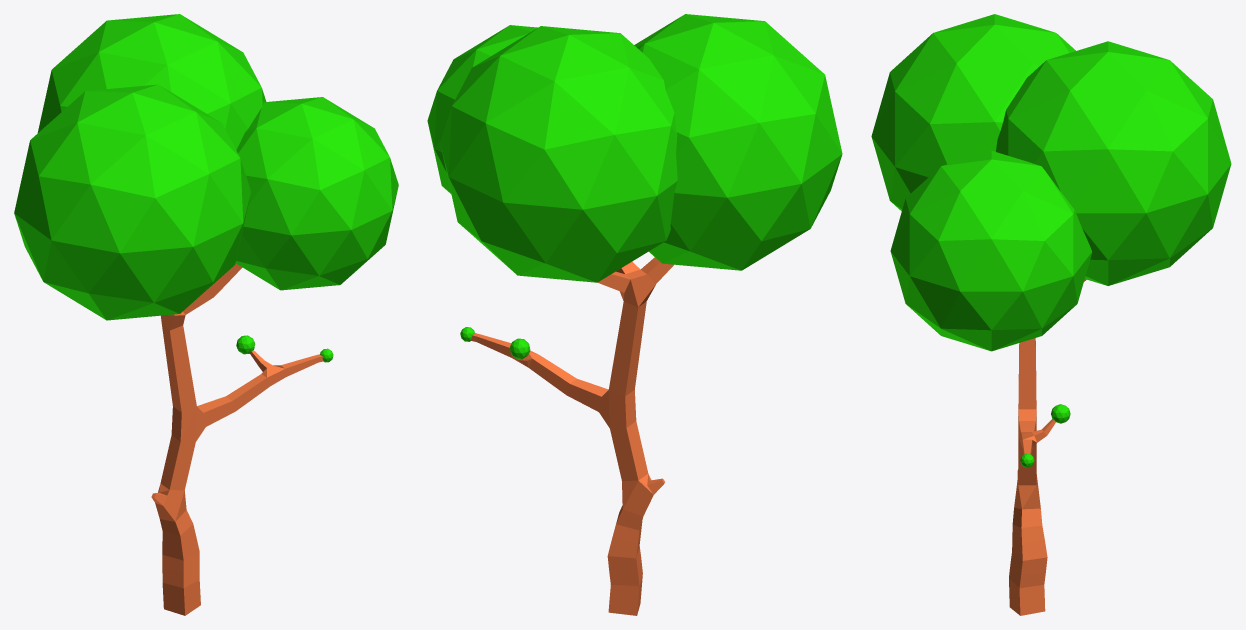
File: Nattergal_Tree.fbx
The picture shows the model from 3 angles, left to right: view 1: azimuth 30°, elevation 25°; view 2: azimuth 150°, elevation 25°; view 3: azimuth 270°, elevation 25°; orthographic projection. The views are drawn at different scales.
Visible parts, largest first — view 1: Icosphere.001, Icosphere, Icosphere.002, Cube; view 2: Icosphere.002, Icosphere.001, Cube, Icosphere; view 3: Icosphere.002, Icosphere, Icosphere.001, Cube.
Boxes of the visible parts, x1=… form: Icosphere.001: x1=14, y1=84, x2=250, y2=320; Icosphere: x1=235, y1=97, x2=398, y2=290; Icosphere.002: x1=37, y1=14, x2=266, y2=149; Cube: x1=151, y1=263, x2=323, y2=615; Icosphere.002: x1=440, y1=26, x2=677, y2=282; Icosphere.001: x1=634, y1=14, x2=842, y2=270; Cube: x1=471, y1=257, x2=673, y2=615; Icosphere: x1=427, y1=25, x2=537, y2=194; Icosphere.002: x1=996, y1=41, x2=1231, y2=285; Icosphere: x1=890, y1=150, x2=1092, y2=351; Icosphere.001: x1=871, y1=14, x2=1075, y2=211; Cube: x1=1009, y1=279, x2=1086, y2=615.
Size of the model in its own units: 722 by 1095 by 634.
